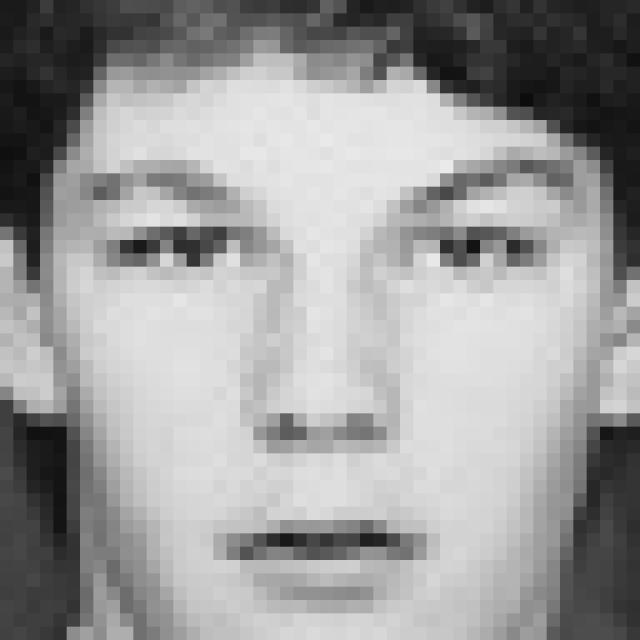neutral: (82, 152, 585, 610)
